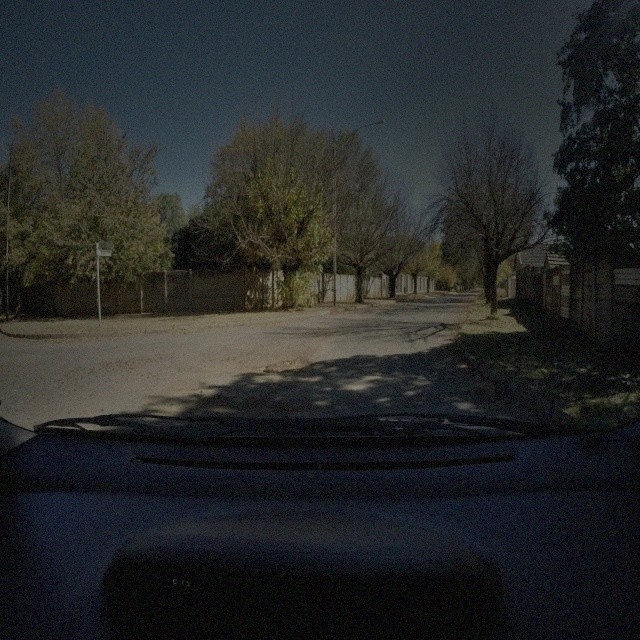pothole: (258, 352, 314, 375)
